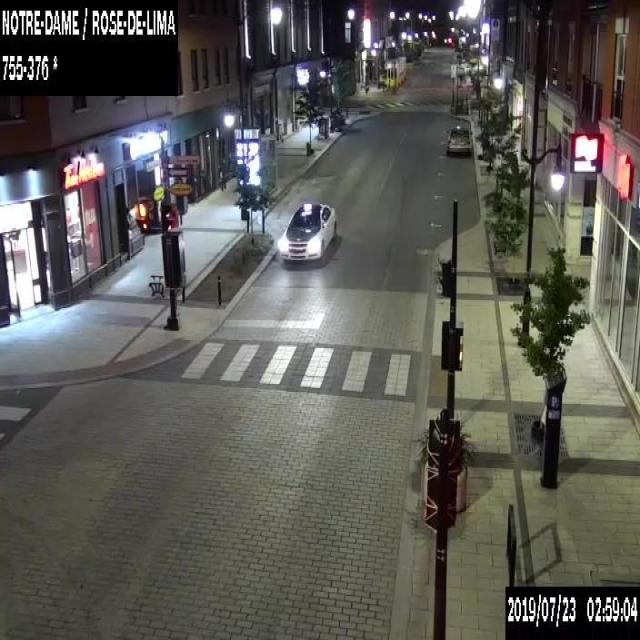vehicle: (278, 202, 336, 264), (445, 124, 472, 154)
